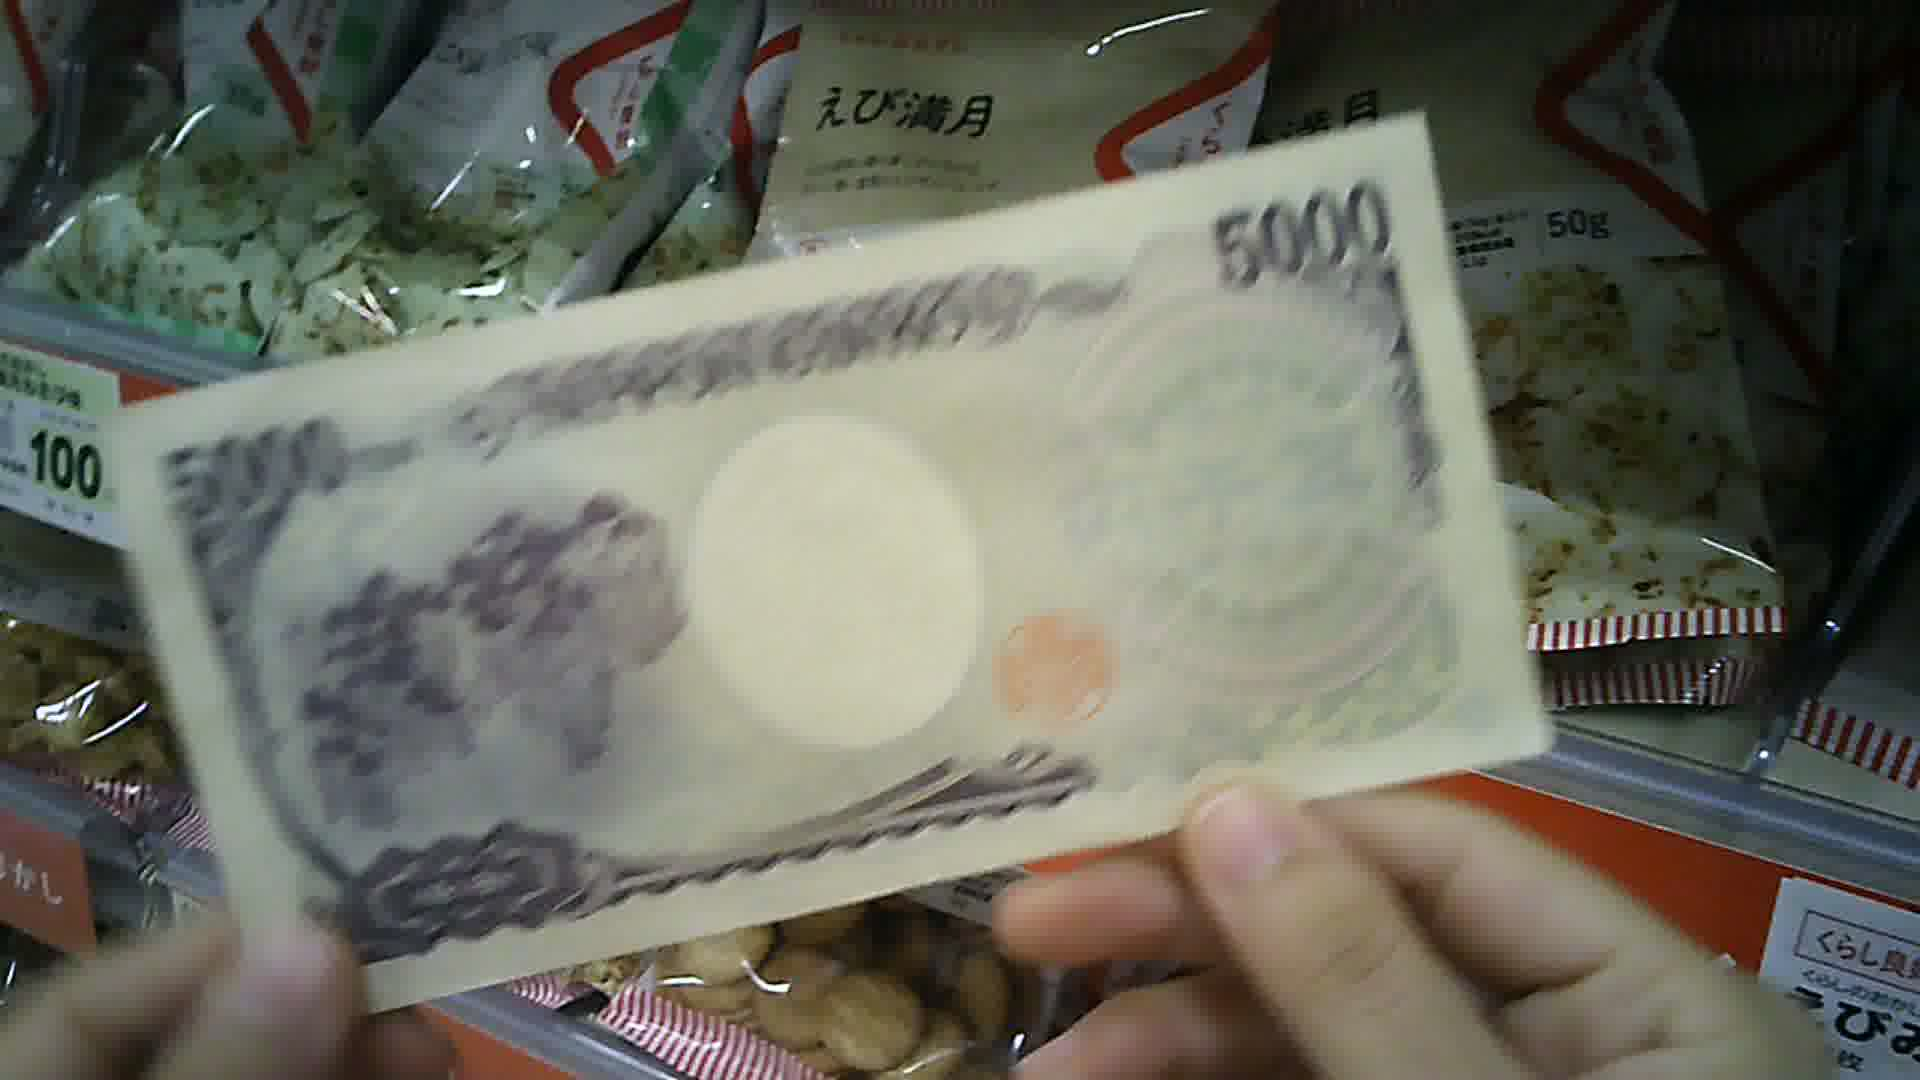5,000 Yen: (100, 131, 1575, 1019)
